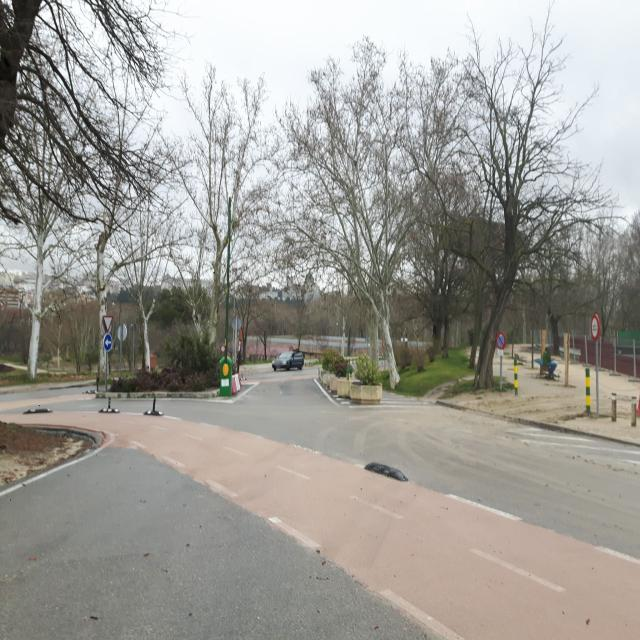forb_stopping: (496, 333, 505, 349)
